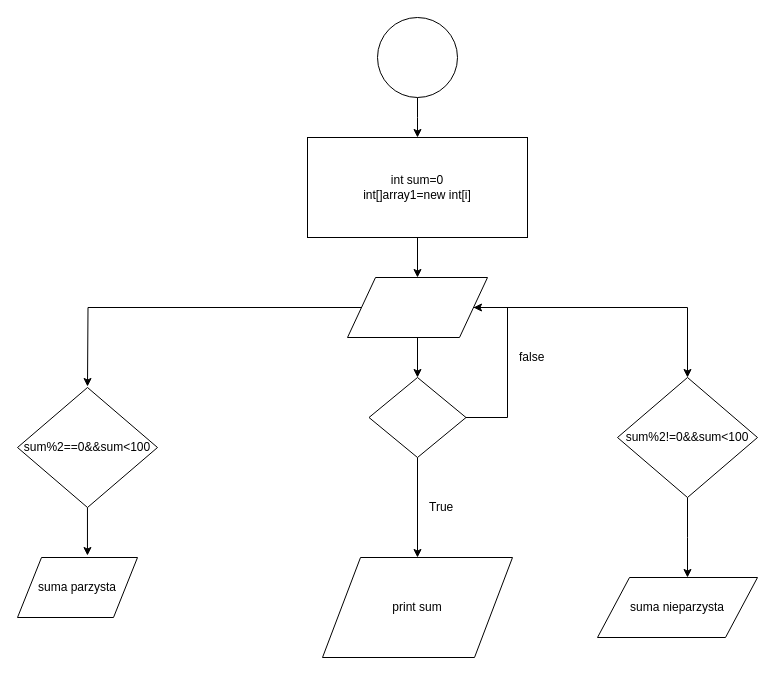
The diagram is 775 pixels wide and 675 high, and some of its shapes have lost their labels. Each missing label, with the centre of its shape:
"int number = scanner1nextInt()" belongs at (x=417, y=307).
"Start" belongs at (x=417, y=57).
"sum>=100" belongs at (x=417, y=417).
